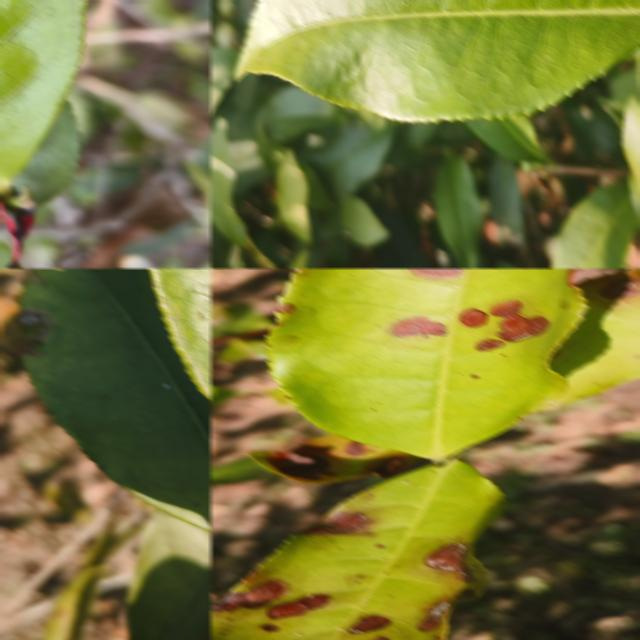Leaf: (268, 268, 586, 456), (210, 458, 504, 640), (21, 268, 212, 530), (237, 0, 640, 120), (537, 268, 640, 409), (126, 510, 212, 640), (550, 183, 638, 268), (12, 99, 80, 204), (315, 124, 394, 195), (433, 154, 481, 268), (210, 117, 248, 245), (263, 84, 340, 141), (463, 113, 549, 161), (276, 148, 311, 243), (487, 155, 523, 233), (340, 195, 390, 245), (210, 46, 238, 114)
